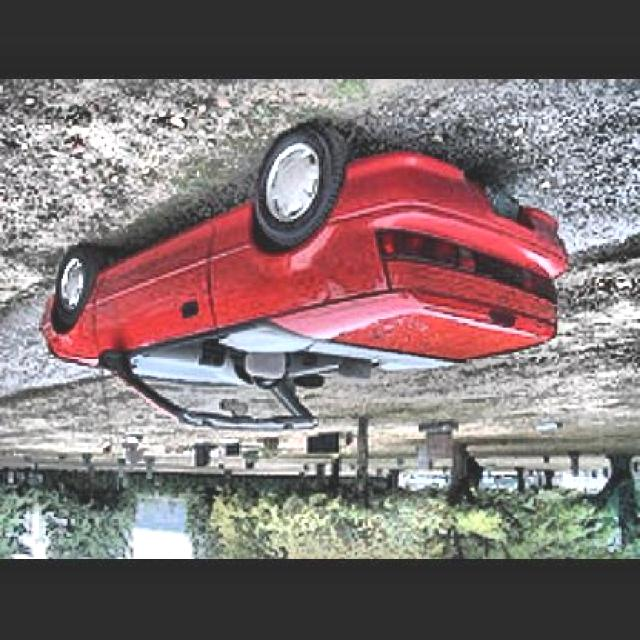red: (74, 175, 566, 436)
